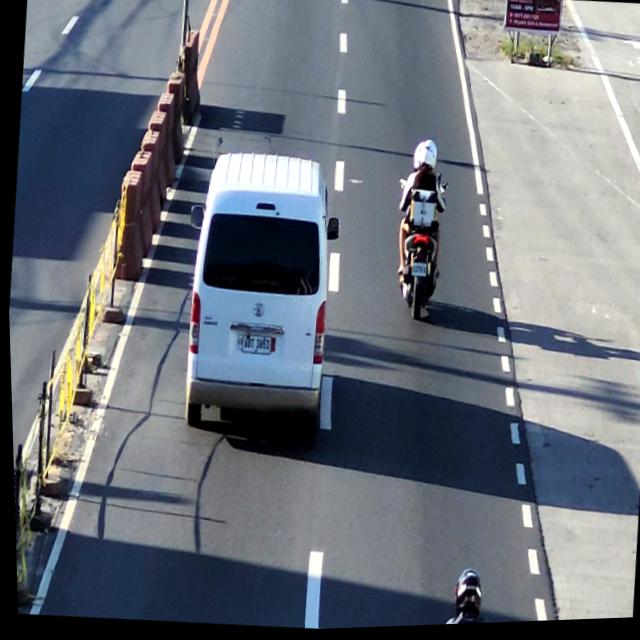Car: (173, 144, 346, 452)
License-Plate: (237, 333, 273, 361), (404, 260, 429, 286)
Motorcycle: (387, 136, 453, 328), (430, 563, 492, 628)
